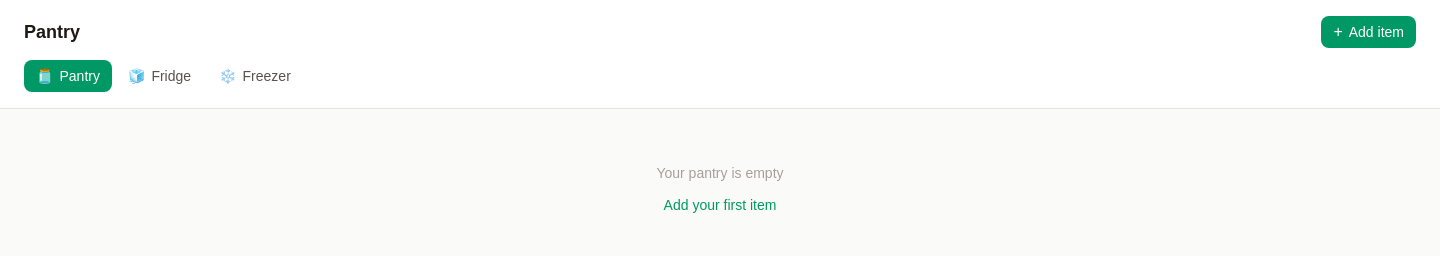
PantryPage › switches to fridge tab and refetches with fridge location
The image size is (1440, 256).
Expected: the text "Your pantry is empty" is shown, [656,163,784,183]
Click the button "🧊 Fridge" at (160, 76), box [116,60,203,92]
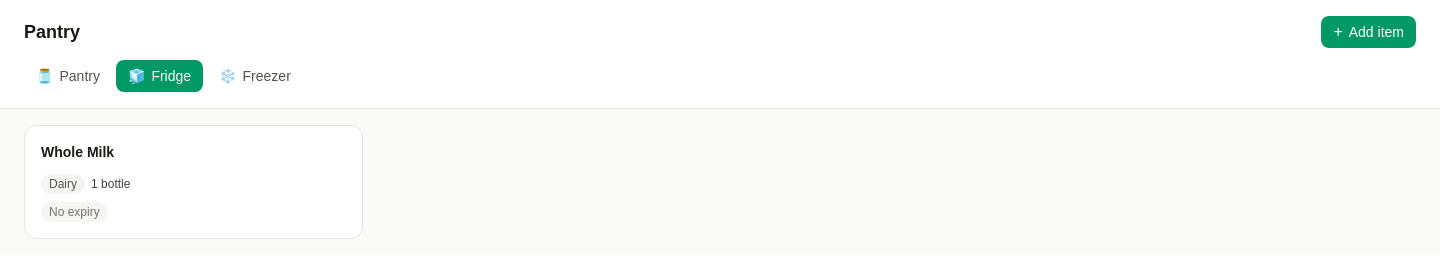
Result: the text "Whole Milk" is shown at [41,142,114,162]
